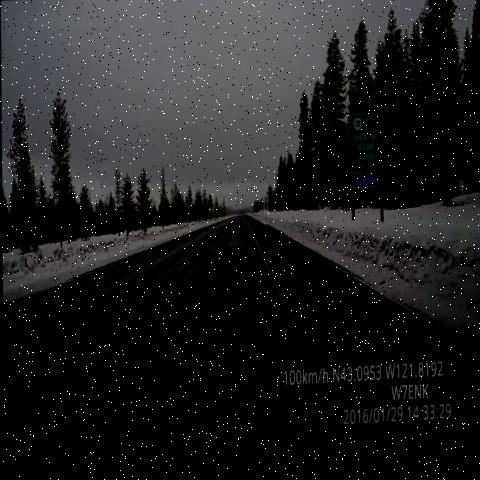pothole: (218, 242, 235, 261)
